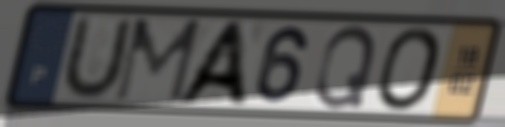6: (253, 23, 313, 107)
A: (170, 19, 251, 108)
M: (110, 16, 205, 105)
O: (374, 25, 446, 114)
Q: (311, 23, 380, 111)
U: (56, 13, 137, 103)
